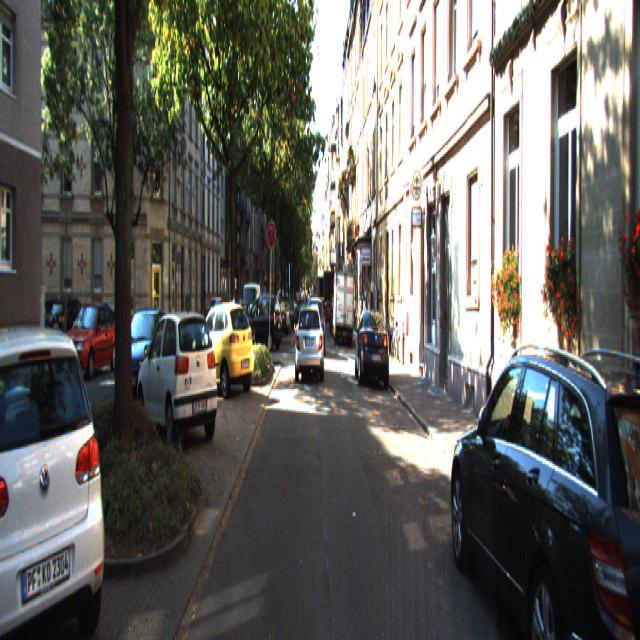Car: (450, 326, 640, 638), (0, 312, 118, 638), (132, 312, 221, 456), (190, 299, 258, 401), (111, 310, 171, 402), (60, 303, 120, 375), (354, 307, 391, 389), (240, 296, 283, 356), (295, 305, 324, 383), (332, 270, 354, 343), (306, 295, 325, 355)
